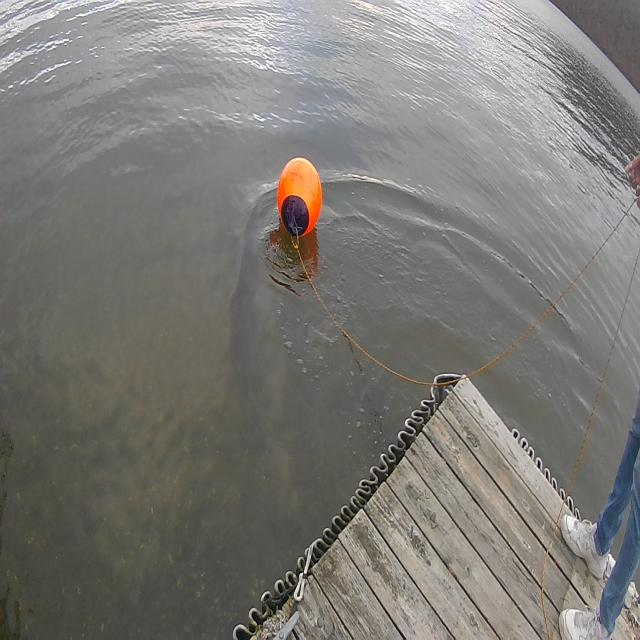Buoy: (272, 145, 328, 252)
